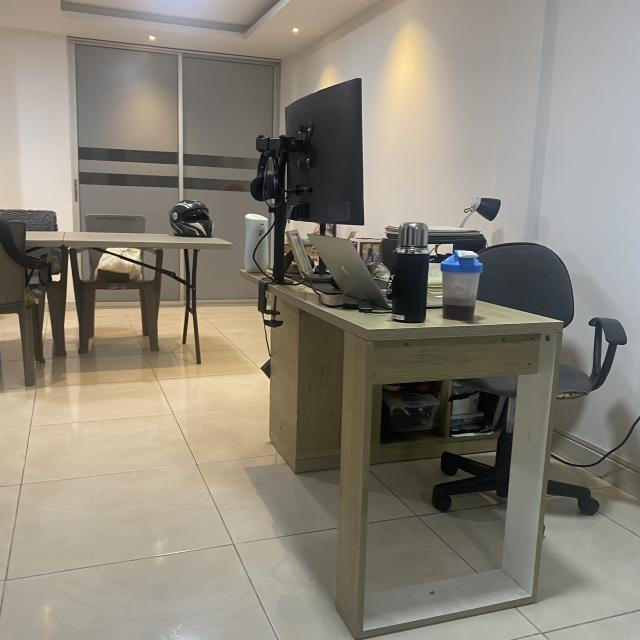obstacle: (246, 77, 627, 635), (0, 193, 254, 360)
